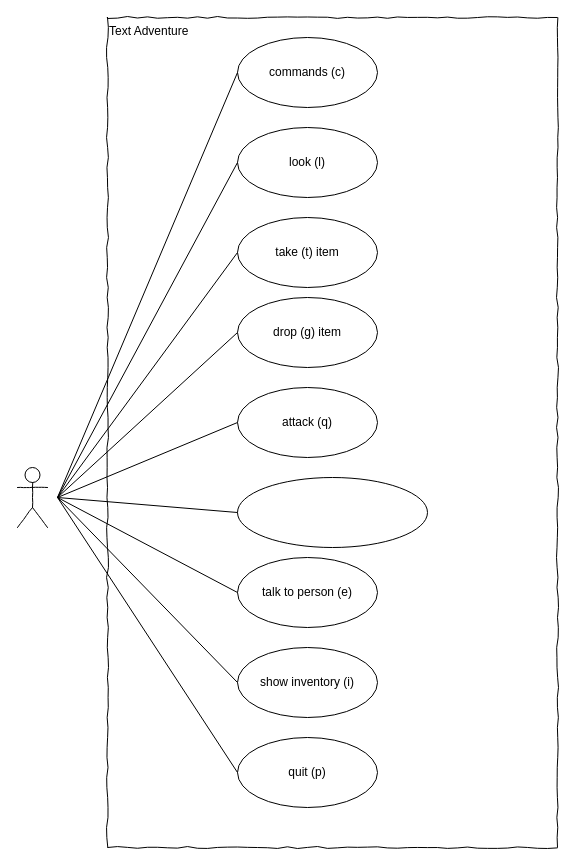
Some shapes in this 575 by 865 pixel diagram are drawn without their labels. Each missing label, with the box of its shape:
Actor: (16, 466, 48, 528)
walk north /south / west / east: (236, 476, 428, 548)
